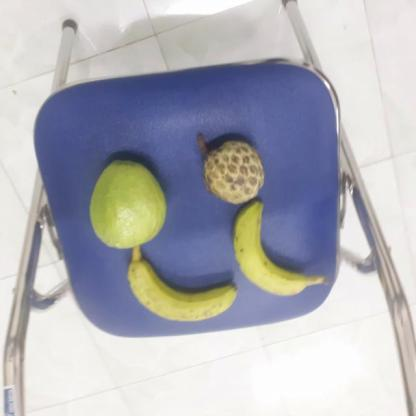annona: (196, 138, 263, 203)
banana: (121, 246, 234, 321), (226, 202, 312, 296)
guava: (86, 160, 166, 248)
